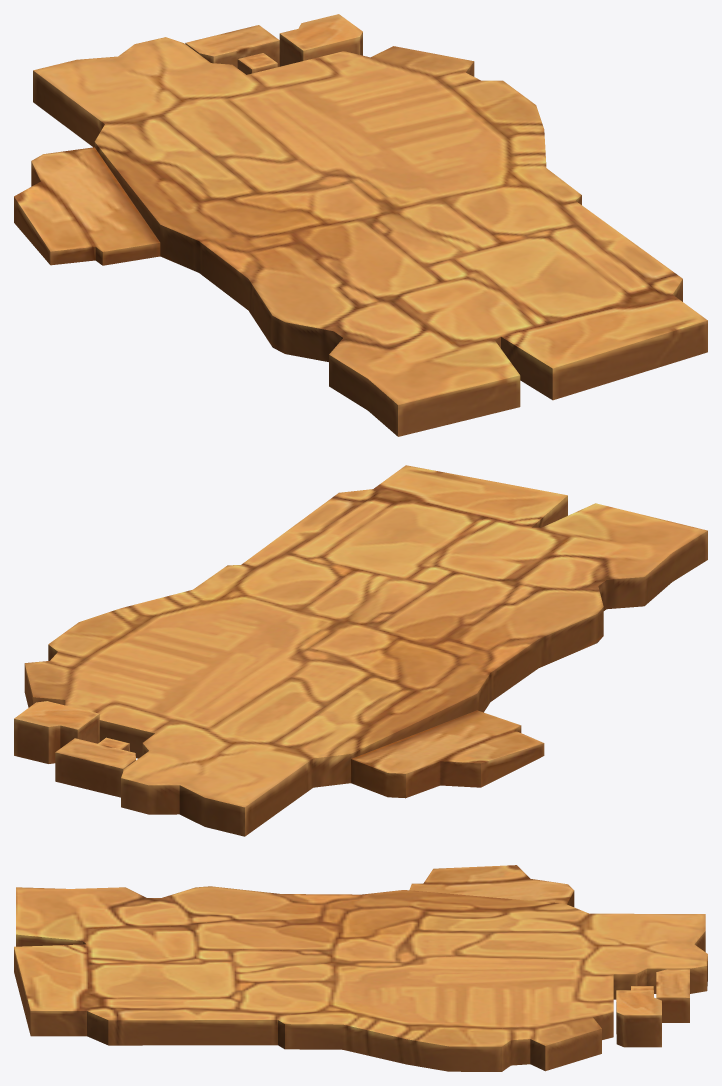
Rendered from Stage_ShaMo_ShiBan01.FBX.
3 renders of one model, top to bottom at view 1: azimuth 30°, elevation 25°; view 2: azimuth 150°, elevation 25°; view 3: azimuth 270°, elevation 25°, orthographic. The views are drawn at different scales.
Parts seen in each view (by area): view 1: Stage_ShaMo_ShiBan01; view 2: Stage_ShaMo_ShiBan01; view 3: Stage_ShaMo_ShiBan01.
Boxes of the visible parts, <box> form: Stage_ShaMo_ShiBan01: <box>14,14,707,436</box>; Stage_ShaMo_ShiBan01: <box>14,465,707,836</box>; Stage_ShaMo_ShiBan01: <box>14,865,707,1071</box>.
Bounding box in the file's own units: 394 × 30.67 × 601.
